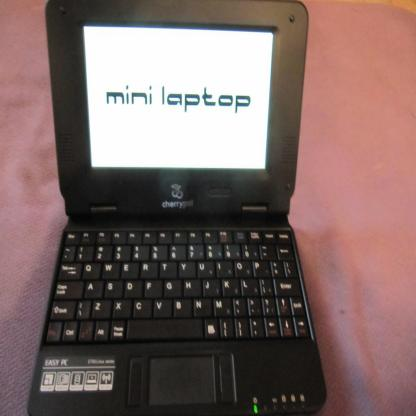board: (23, 0, 338, 416)
